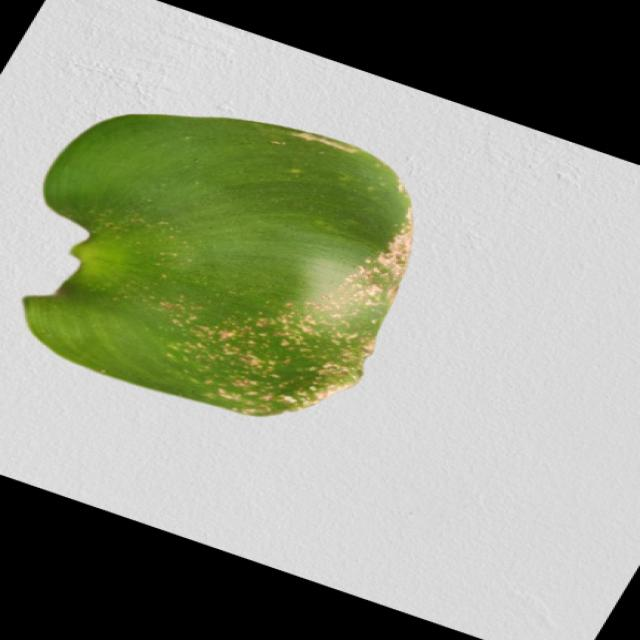daun berpenyakit bercak: (23, 115, 413, 416)
